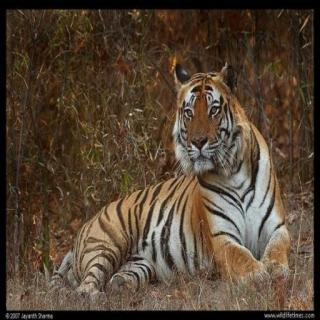Tiger: (44, 52, 298, 297)
